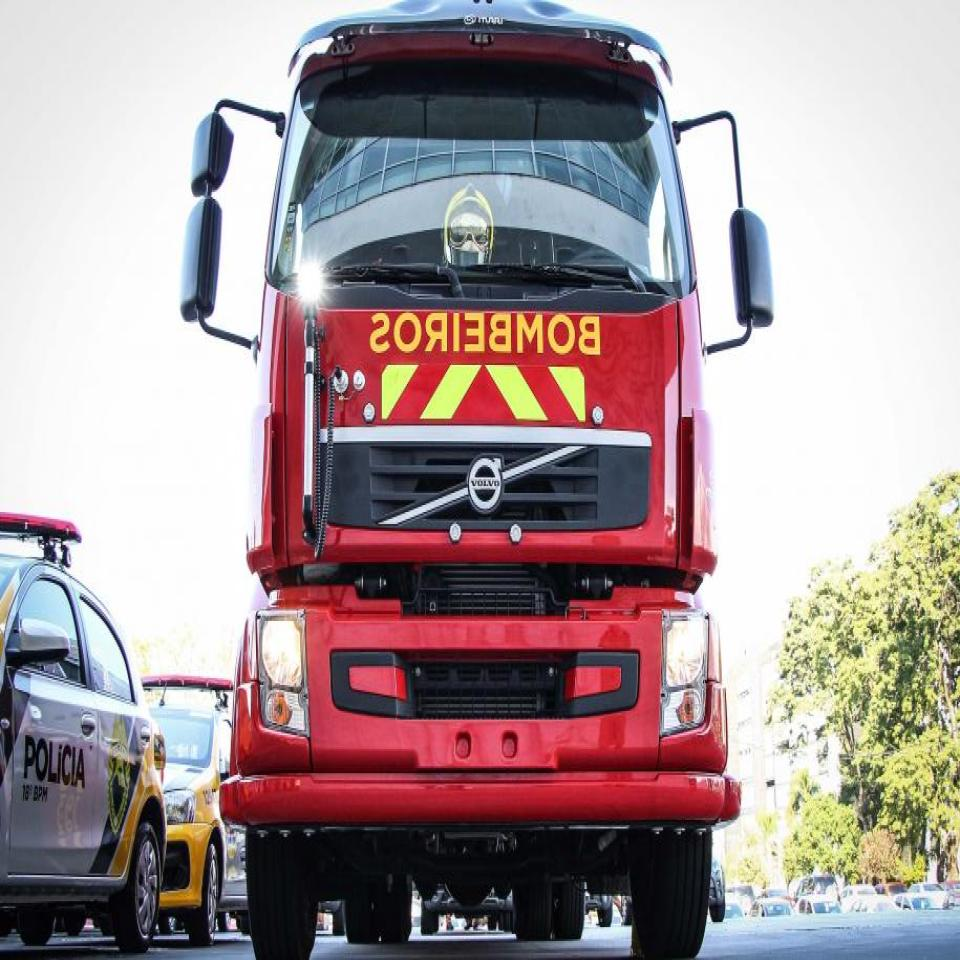viatura: (214, 0, 742, 960)
